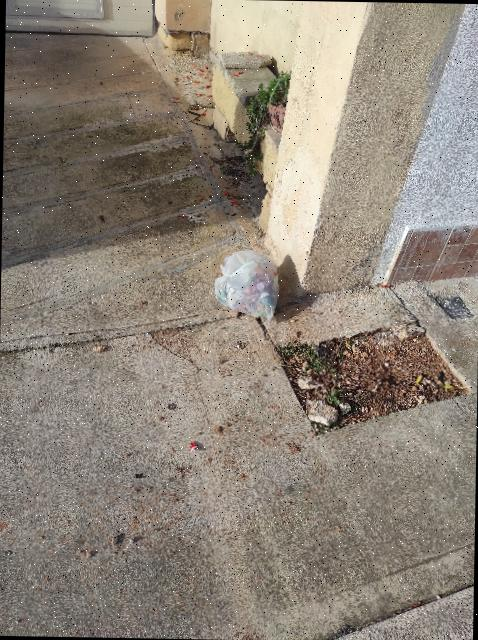Organic -White-: (214, 251, 279, 320)
